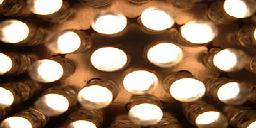LED: (145, 41, 188, 73), (88, 11, 131, 39), (89, 46, 128, 76), (122, 69, 158, 98), (169, 79, 207, 106), (43, 31, 85, 55), (24, 58, 65, 82)
